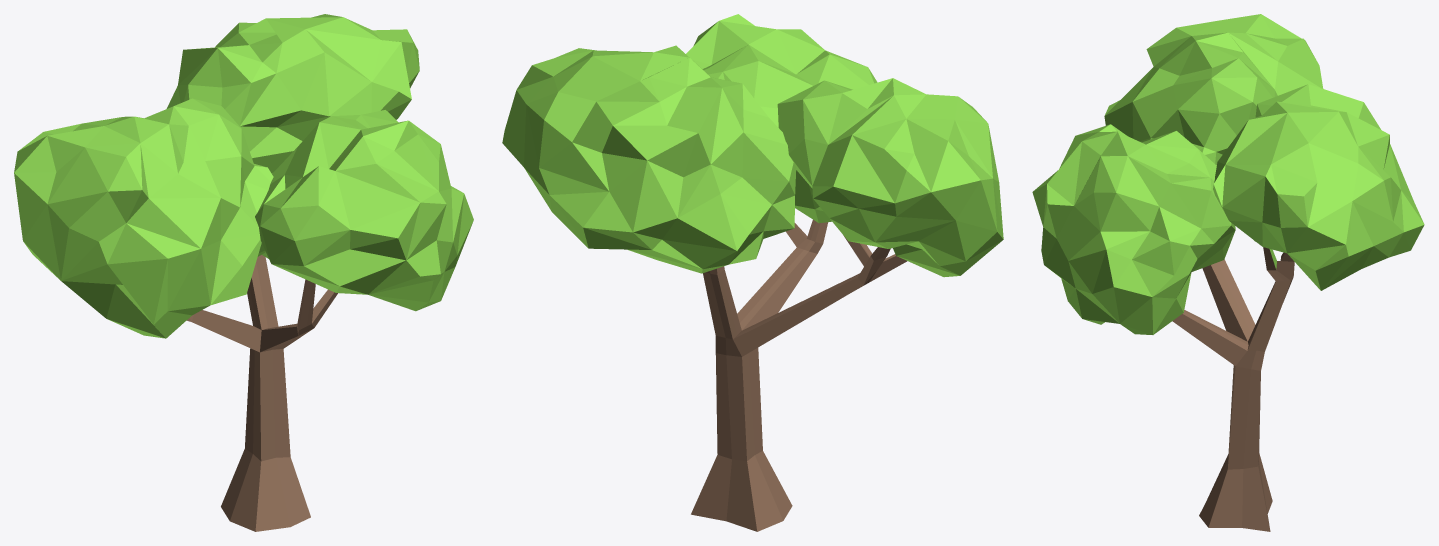
The model's file is Tree2.fbx.
3 views of the same model, side by side, from view 1: azimuth 30°, elevation 25°; view 2: azimuth 150°, elevation 25°; view 3: azimuth 270°, elevation 25° (orthographic). The views are drawn at different scales.
Parts seen in each view (by area): view 1: Tree_average_regular; view 2: Tree_average_regular; view 3: Tree_average_regular.
Part boxes in pixels (x1,y1,x2,y2): Tree_average_regular: (14, 14, 473, 531); Tree_average_regular: (502, 14, 1003, 531); Tree_average_regular: (1032, 14, 1424, 531).
Size of the model in its own units: 1469 by 1462 by 1204.
